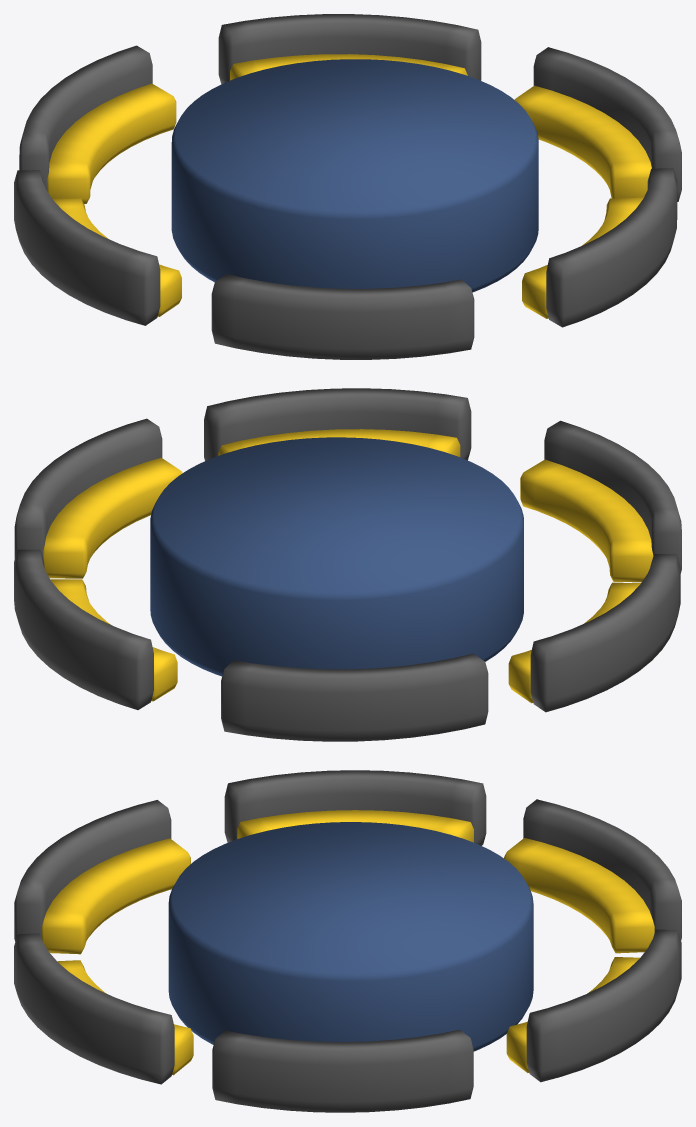
The model's file is roundtable6.fbx.
The picture shows the model from 3 angles, top to bottom: view 1: azimuth 30°, elevation 25°; view 2: azimuth 150°, elevation 25°; view 3: azimuth 270°, elevation 25°; orthographic projection. The views are drawn at different scales.
Parts seen in each view (by area): view 1: Table, Chairs.003, Chairs.005, Chairs.001, Chairs.002, Chairs.004, Chairs.006; view 2: Table, Chairs.001, Chairs.003, Chairs.005, Chairs.006, Chairs.002, Chairs.004; view 3: Table, Chairs.005, Chairs.003, Chairs.001, Chairs.002, Chairs.006, Chairs.004.
Boxes of the visible parts, x1,y1,x2,y2 form: Table: (171,59,538,292); Chairs.003: (211,274,474,359); Chairs.005: (514,47,681,201); Chairs.001: (19,45,176,203); Chairs.002: (14,170,181,325); Chairs.004: (218,14,481,84); Chairs.006: (522,168,677,327); Table: (150,437,523,676); Chairs.001: (221,653,488,741); Chairs.003: (520,420,681,582); Chairs.005: (14,418,182,578); Chairs.006: (204,388,471,460); Chairs.002: (508,553,680,712); Chairs.004: (14,549,177,709); Table: (168,822,533,1051); Chairs.005: (212,1029,473,1112); Chairs.003: (14,800,190,954); Chairs.001: (504,799,681,953); Chairs.002: (224,770,486,845); Chairs.006: (14,933,193,1084); Chairs.004: (506,929,681,1082).
Bounding box in the file's own units: 922 × 150 × 915.
